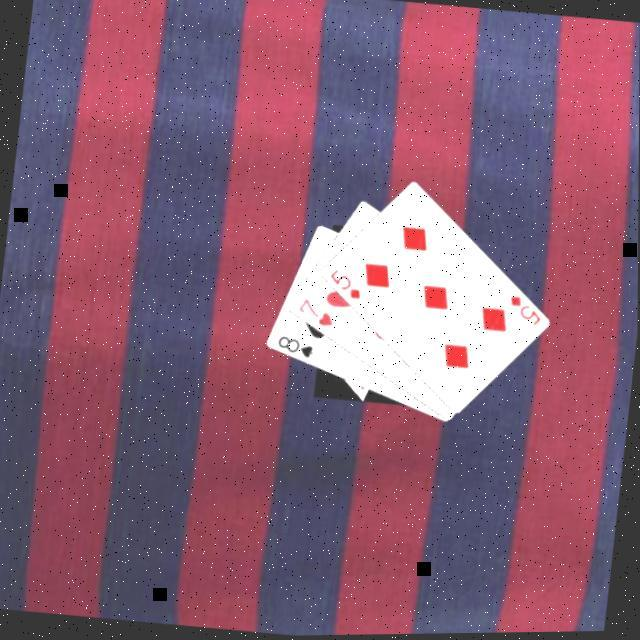5D: (325, 265, 367, 303), (505, 292, 546, 330)
7H: (294, 294, 339, 330)
8S: (274, 332, 318, 362)
